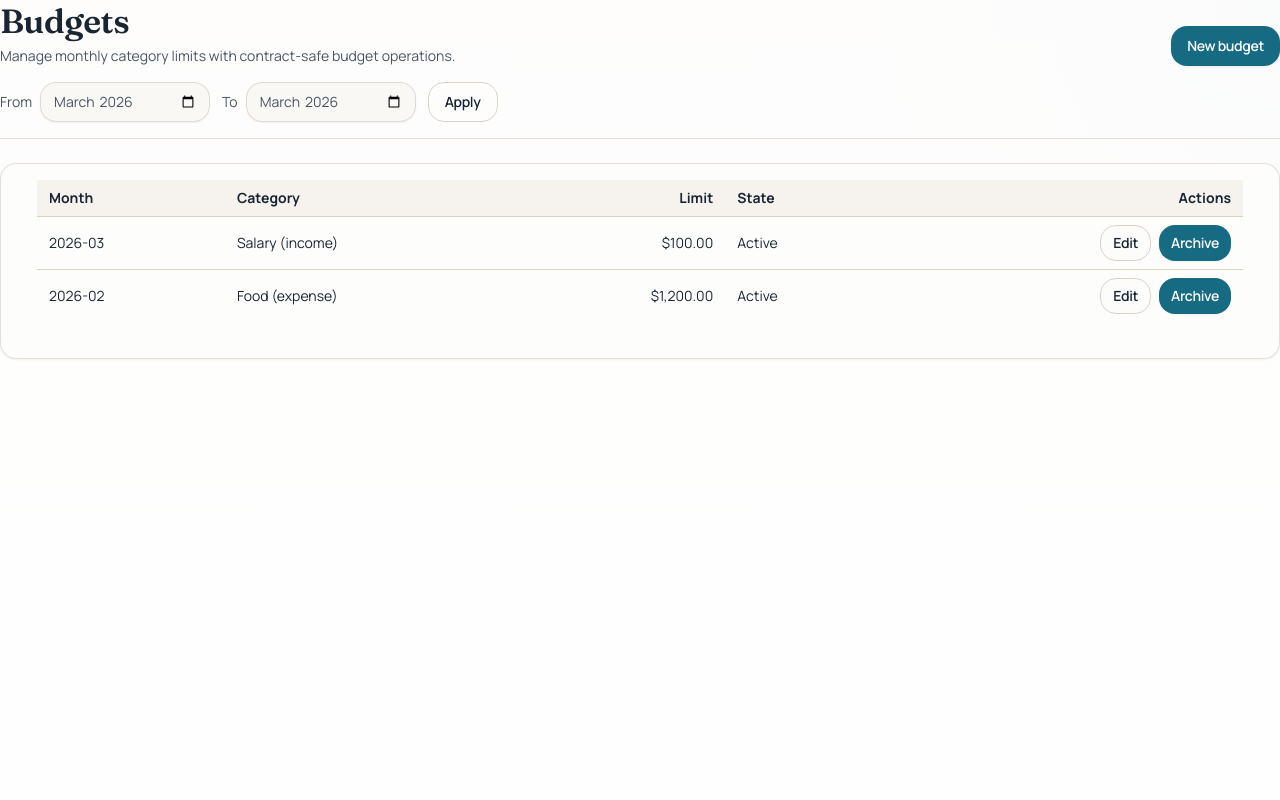
Scenario: BudgetsPage › renders inline feedback for backend budget-month-invalid
Expected: the text "2026-03" is shown, [37,216,225,270]
Click the button "New budget": (1226, 46) [1171,26,1279,66]
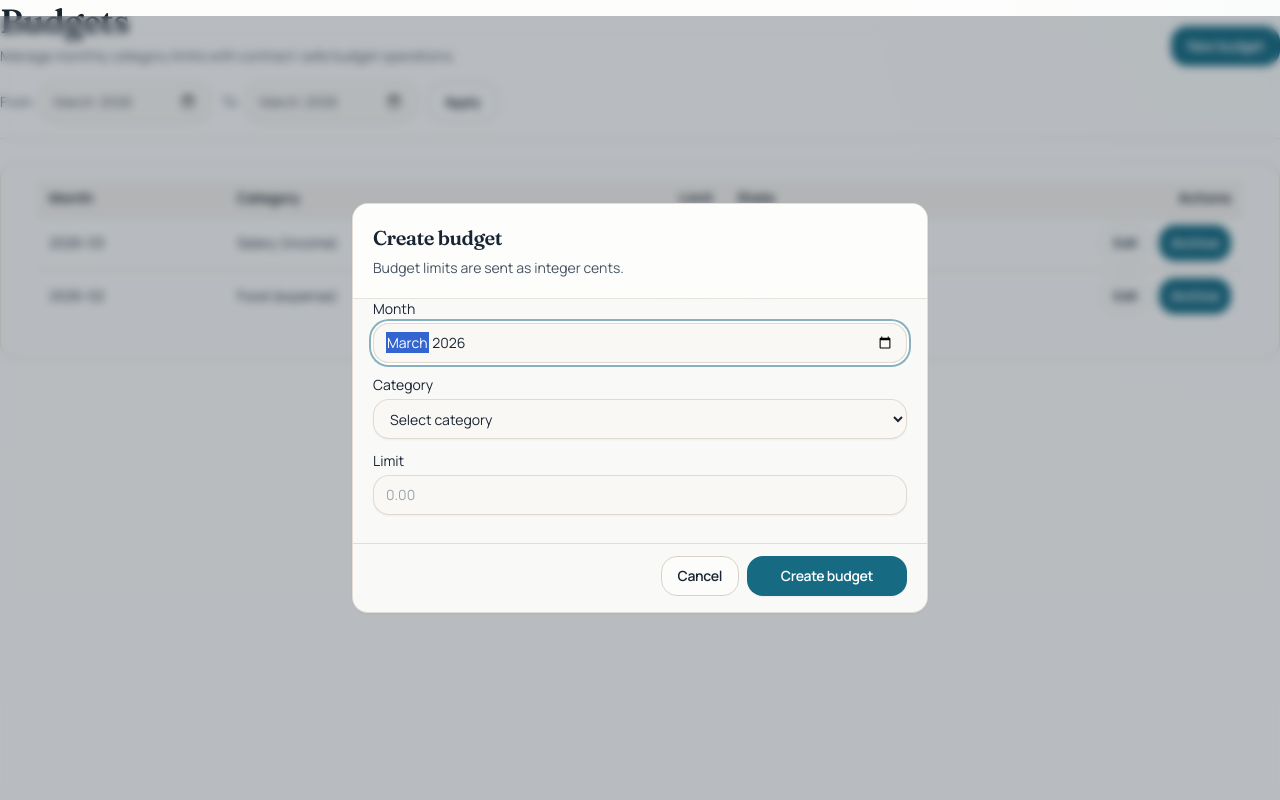
Select "Food (expense)" in the dropdown labelled "Category": (640, 419) [373,399,907,439]
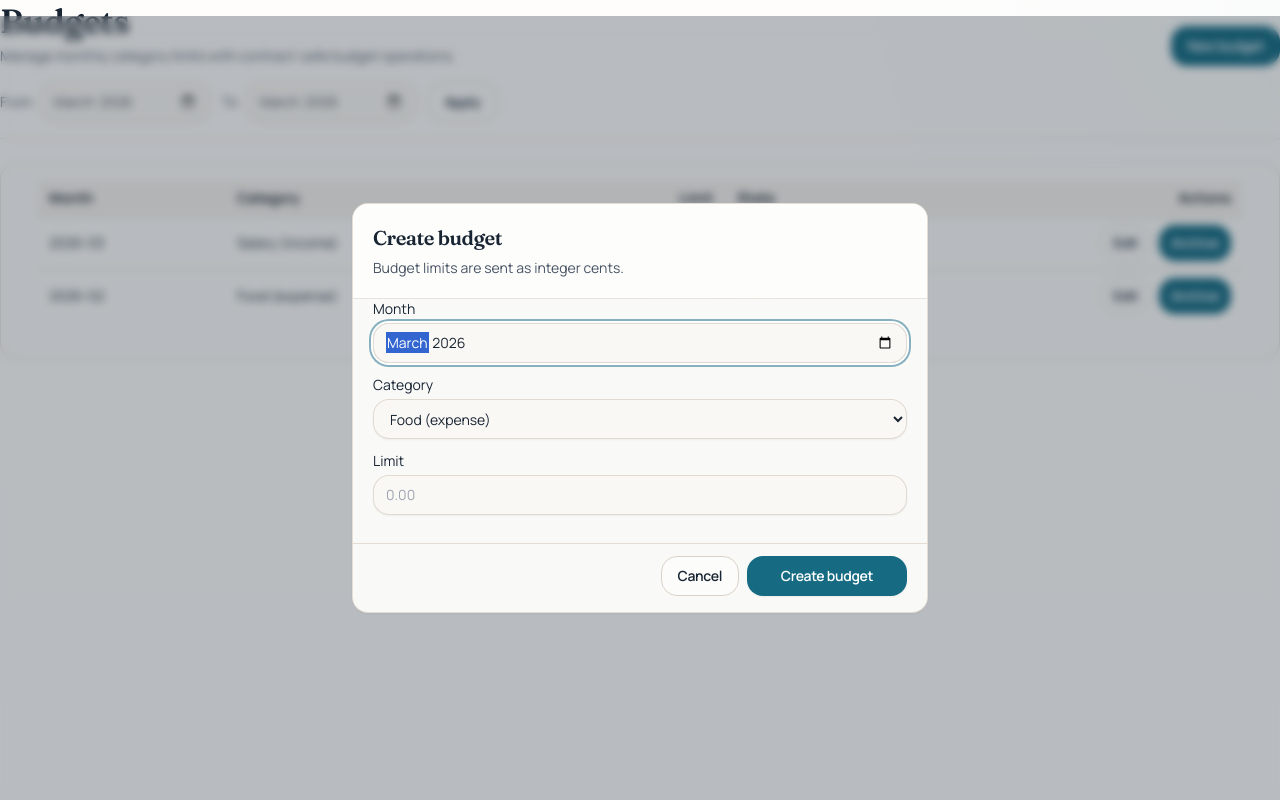
In the field labelled "Limit": (640, 495) [373,475,907,515], type "100"
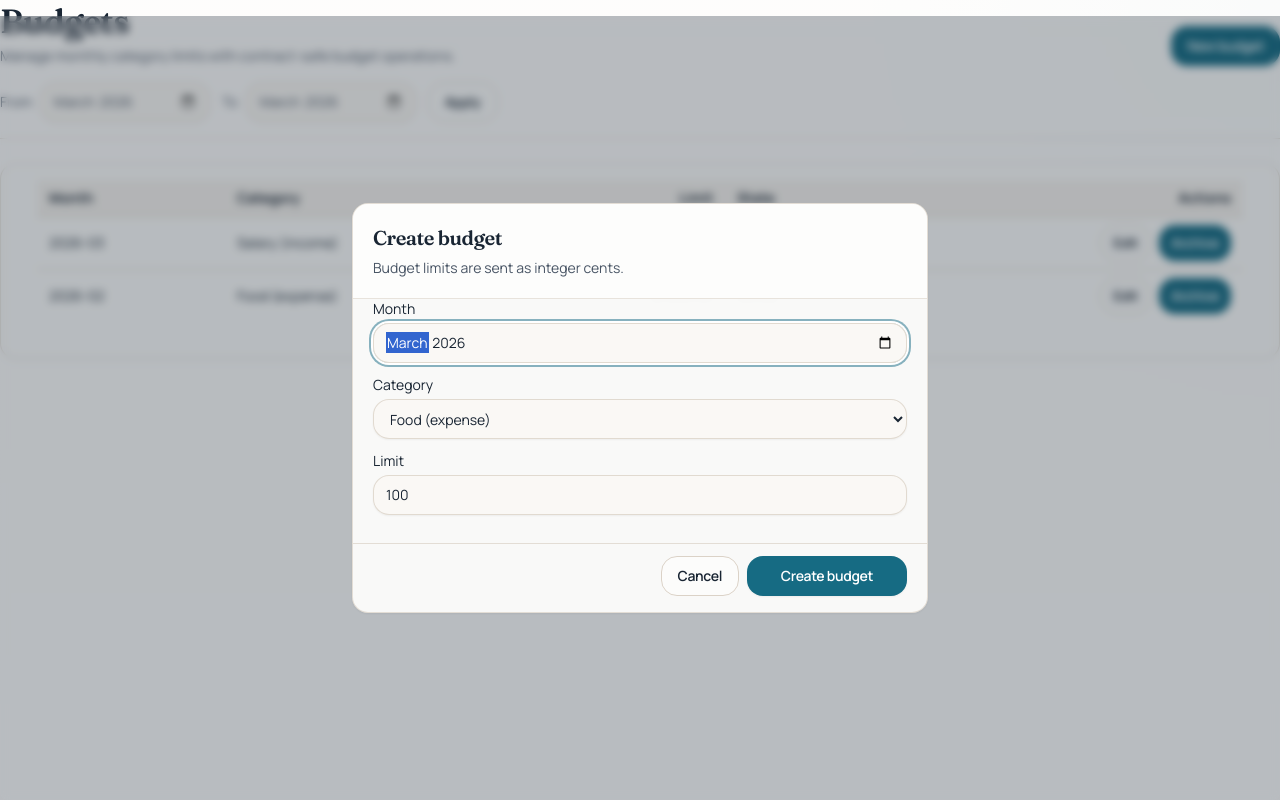
Click the button "Create budget": (827, 576) [747,556,907,596]
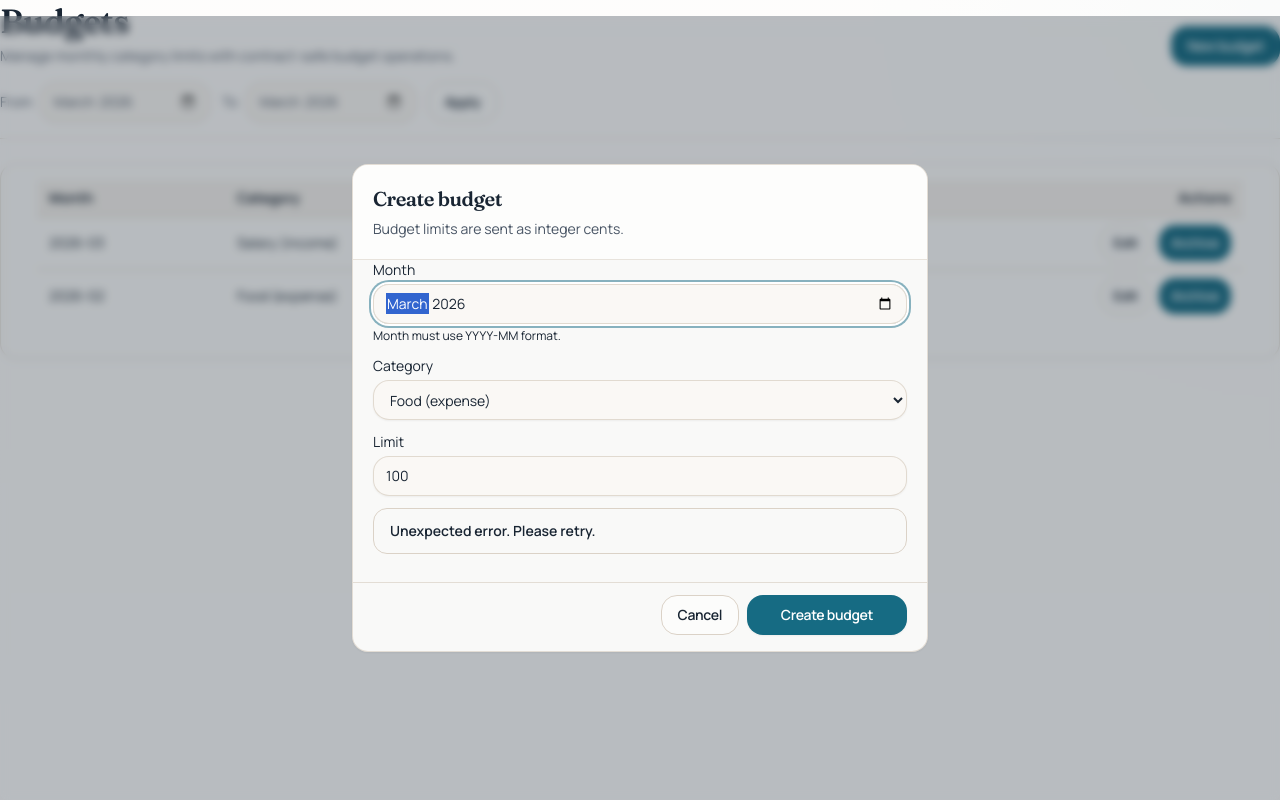
Now the text "Month must use YYYY-MM format." is shown, box [373,327,561,344]
